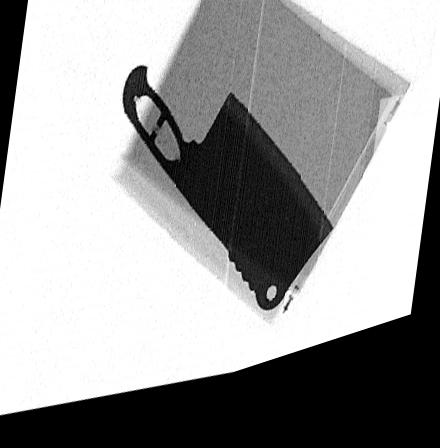Knife: (122, 73, 334, 328)
